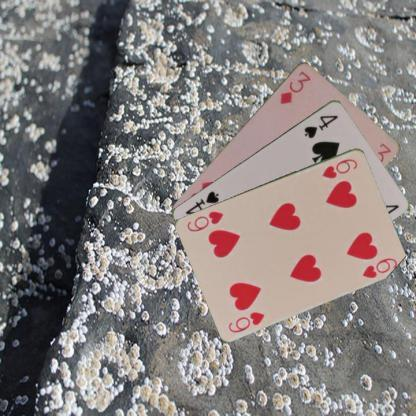3d: (277, 68, 312, 106)
4s: (301, 112, 339, 139)
6h: (225, 308, 266, 335), (319, 155, 359, 180)
